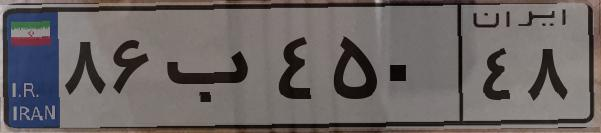0: (385, 28, 445, 110)
4: (270, 28, 330, 110), (475, 38, 525, 113)
5: (330, 28, 385, 110)
6: (110, 28, 158, 98)
8: (57, 26, 110, 100), (525, 38, 570, 115)
ب: (158, 20, 270, 120)
